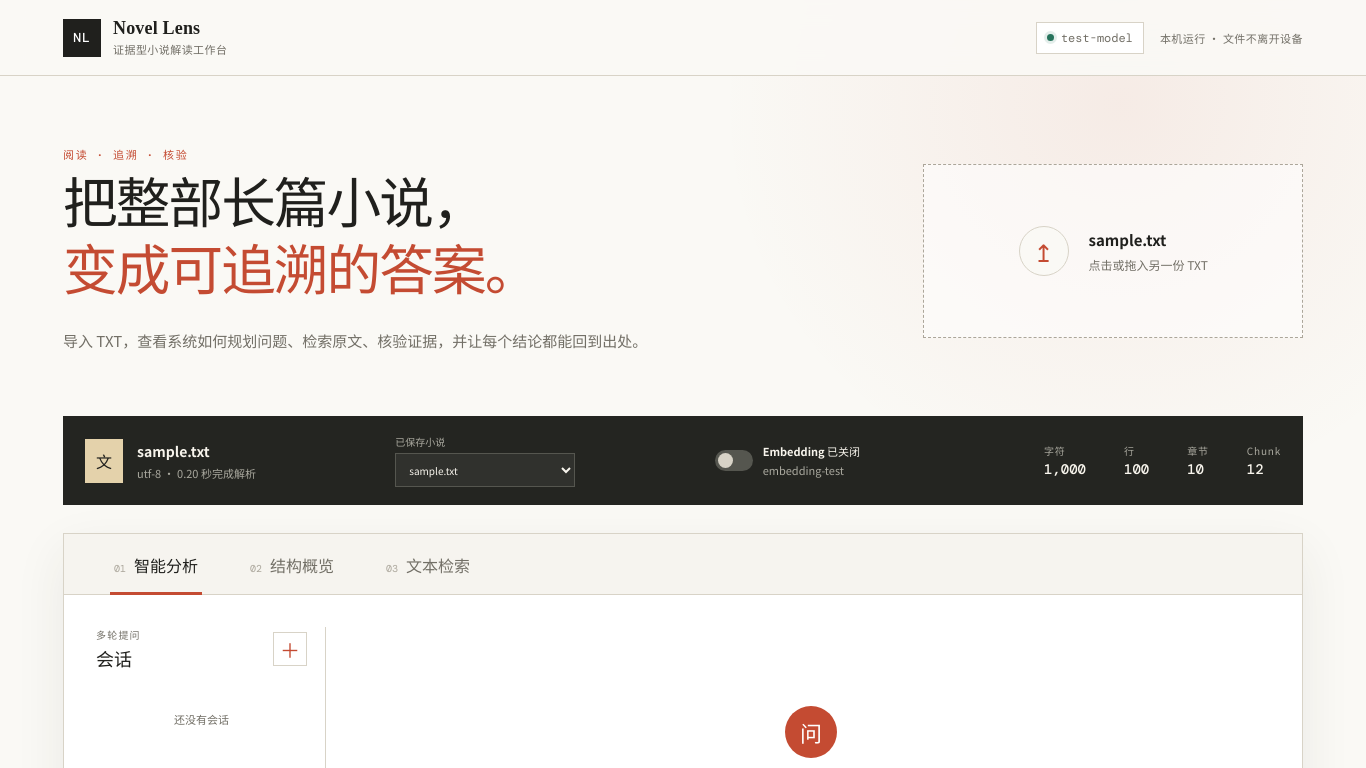
Test case: App upload workflow › keeps embedding off by default and enables it for the selected novel
The image size is (1366, 768).
Check: the checkbox with class "embedding-toggle" shows "Embedding 已关闭", box [763,443,860,459]
Click the checkbox labelled "Embedding 已关闭 embedding-test". click: (787,460)
box: [715,443,860,478]
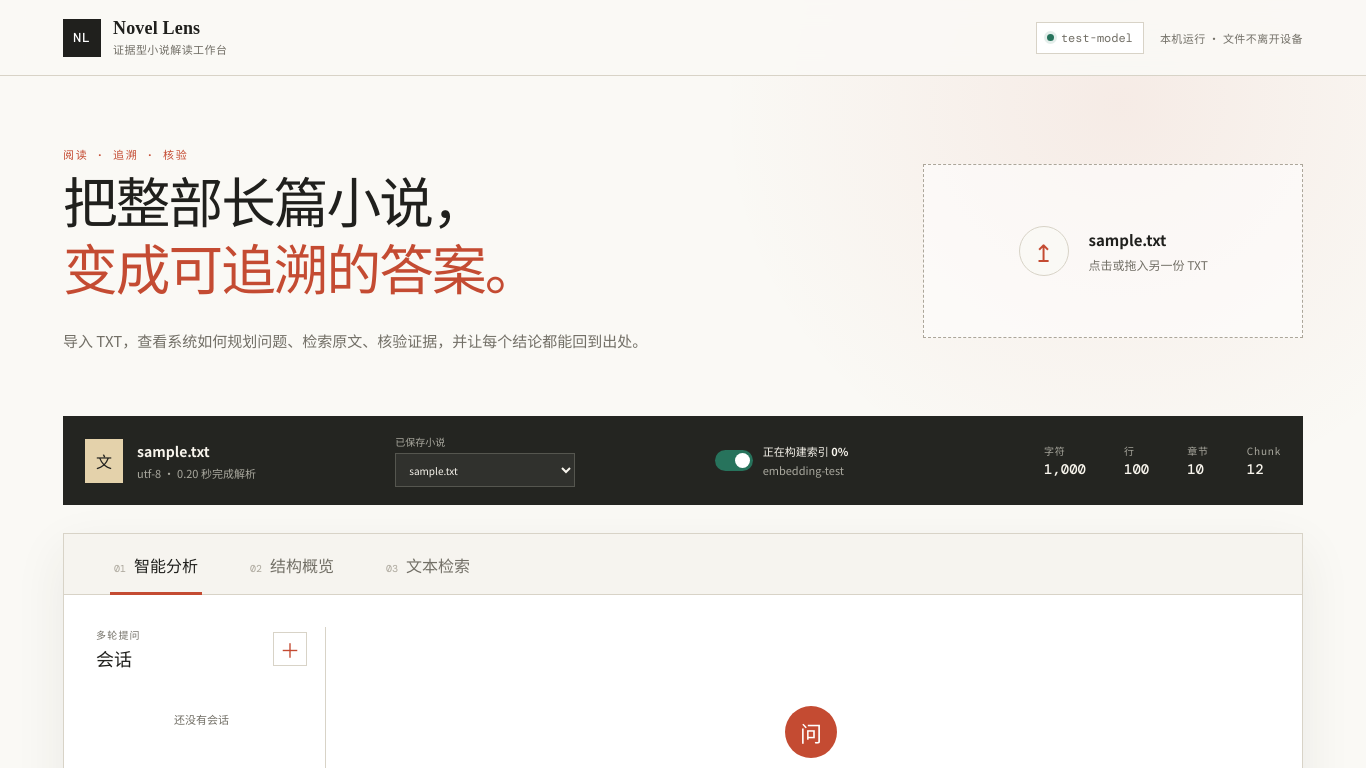
Check: the checkbox labelled "正在构建索引 0% embedding-test" is checked, box [715,443,848,478]
Check: the checkbox with class "embedding-toggle" shows "正在构建索引", box [763,443,848,459]
Check: the checkbox with class "embedding-toggle" shows "0%", box [763,443,848,459]
